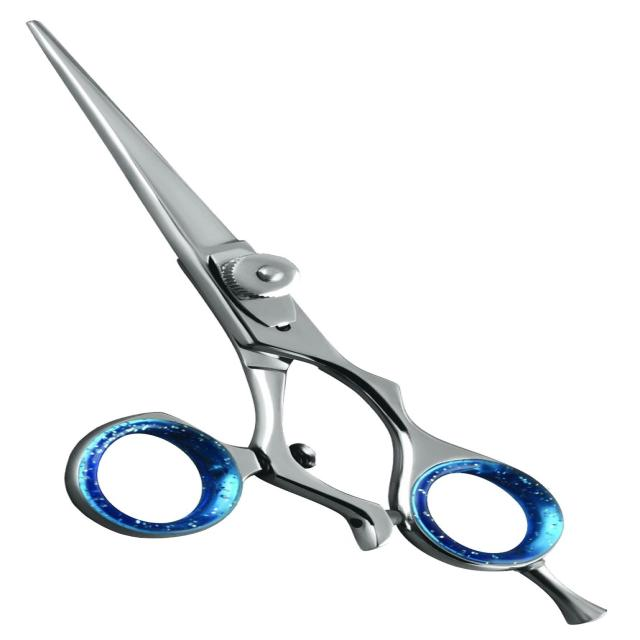Gunting: (22, 17, 619, 634)
